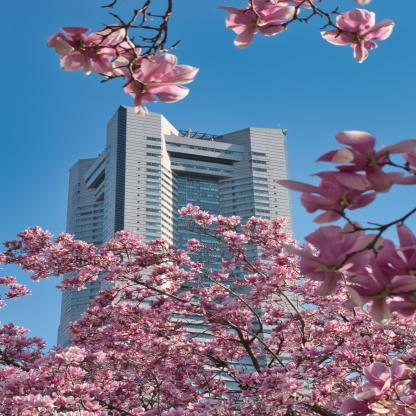Mokuren: (0, 129, 416, 416), (48, 0, 397, 116)
